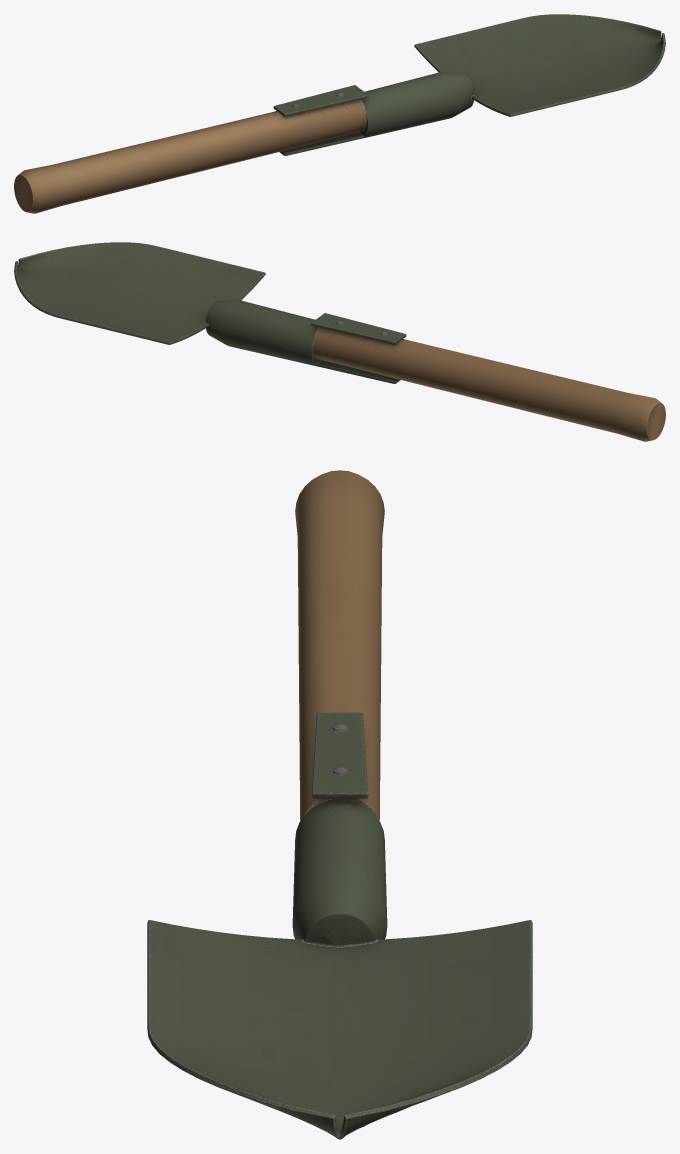
File: shovel.glb
3 renders of one model, top to bottom at view 1: azimuth 30°, elevation 25°; view 2: azimuth 150°, elevation 25°; view 3: azimuth 270°, elevation 25°, orthographic. The views are drawn at different scales.
Visible parts, largest first — view 1: shovel; view 2: shovel; view 3: shovel.
Part boxes in pixels (x1,y1,x2,y2): shovel: [14, 14, 665, 213]; shovel: [14, 242, 665, 441]; shovel: [147, 470, 532, 1139].
Bounding box in the file's own units: 0.5758 × 0.0425 × 0.1503.
1 material, 1 textured.
